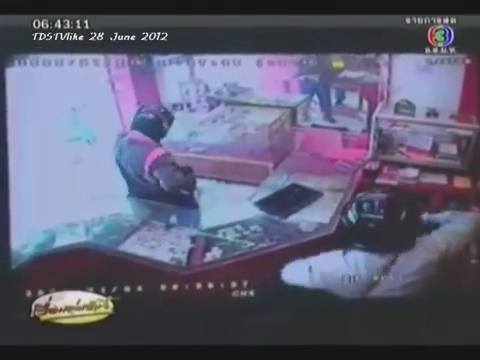helmet: (344, 188, 417, 247), (132, 100, 173, 144)
